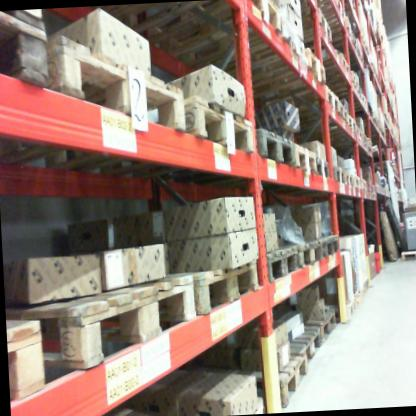pallet: (0, 18, 195, 187), (6, 264, 204, 394), (103, 80, 262, 196), (183, 0, 305, 70), (166, 245, 262, 329), (217, 342, 314, 411), (0, 9, 57, 108), (6, 309, 60, 406), (241, 42, 329, 87), (235, 116, 295, 173), (252, 236, 304, 291), (272, 3, 338, 44), (274, 85, 347, 121), (268, 320, 324, 364), (294, 299, 346, 342), (302, 44, 350, 83), (284, 138, 319, 178), (313, 65, 358, 96), (295, 236, 324, 273), (317, 112, 357, 138), (320, 225, 345, 263), (336, 84, 370, 111), (335, 290, 361, 324), (309, 151, 333, 185), (331, 140, 376, 155), (337, 87, 353, 124), (332, 161, 346, 190), (347, 167, 363, 192), (340, 163, 352, 194), (358, 173, 372, 196), (401, 247, 416, 263), (354, 123, 364, 144), (360, 130, 367, 145)
